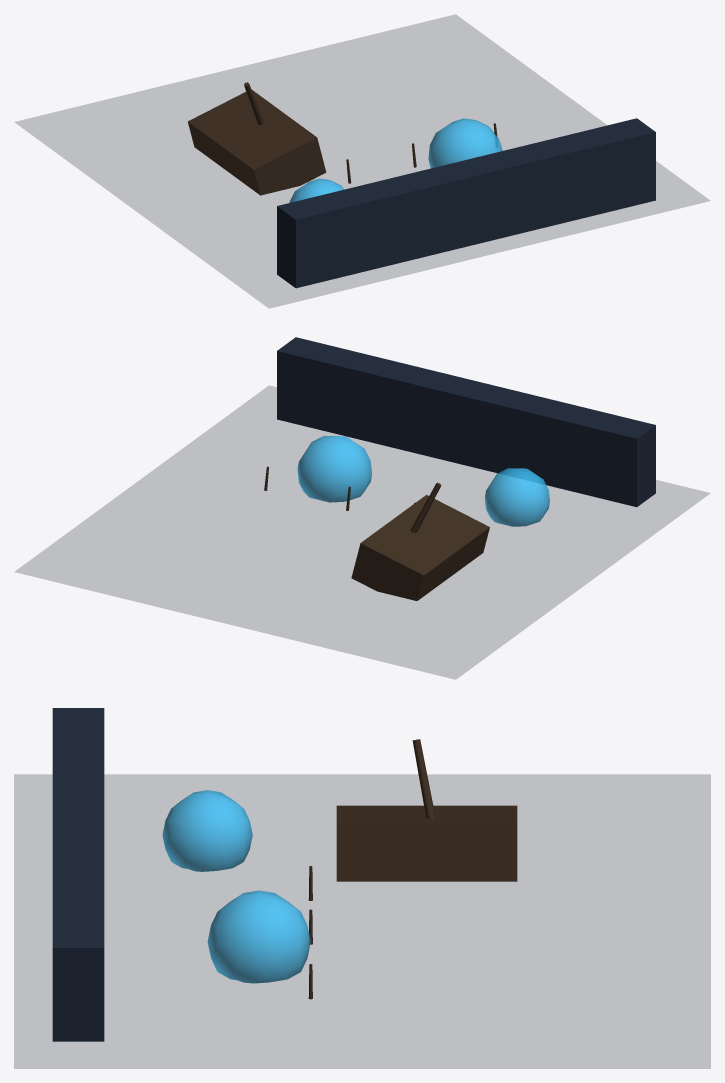
The model's file is dev_03.glb.
3 views of the same model, one above another, from view 1: azimuth 30°, elevation 25°; view 2: azimuth 150°, elevation 25°; view 3: azimuth 270°, elevation 25° (orthographic). The views are drawn at different scales.
Visible parts, largest first — view 1: scenario_base_floor, DEV_03; view 2: scenario_base_floor, DEV_03; view 3: scenario_base_floor, DEV_03, devias_shipwreck_masts.
Boxes of the visible parts, bbox=[...] form: scenario_base_floor: bbox=[14, 14, 710, 308]; DEV_03: bbox=[187, 90, 655, 288]; scenario_base_floor: bbox=[14, 385, 710, 679]; DEV_03: bbox=[264, 337, 655, 600]; scenario_base_floor: bbox=[14, 774, 710, 1068]; DEV_03: bbox=[52, 708, 517, 1041]; devias_shipwreck_masts: bbox=[412, 739, 435, 818].
Size of the model in its own units: 54 by 12.19 by 54.
